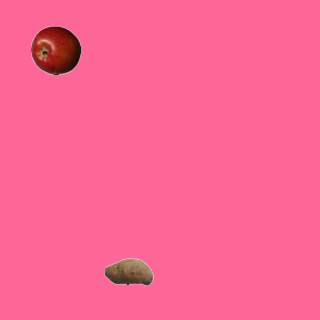Apple Braeburn: (30, 25, 80, 75)
Potato Sweet: (103, 246, 153, 296)
